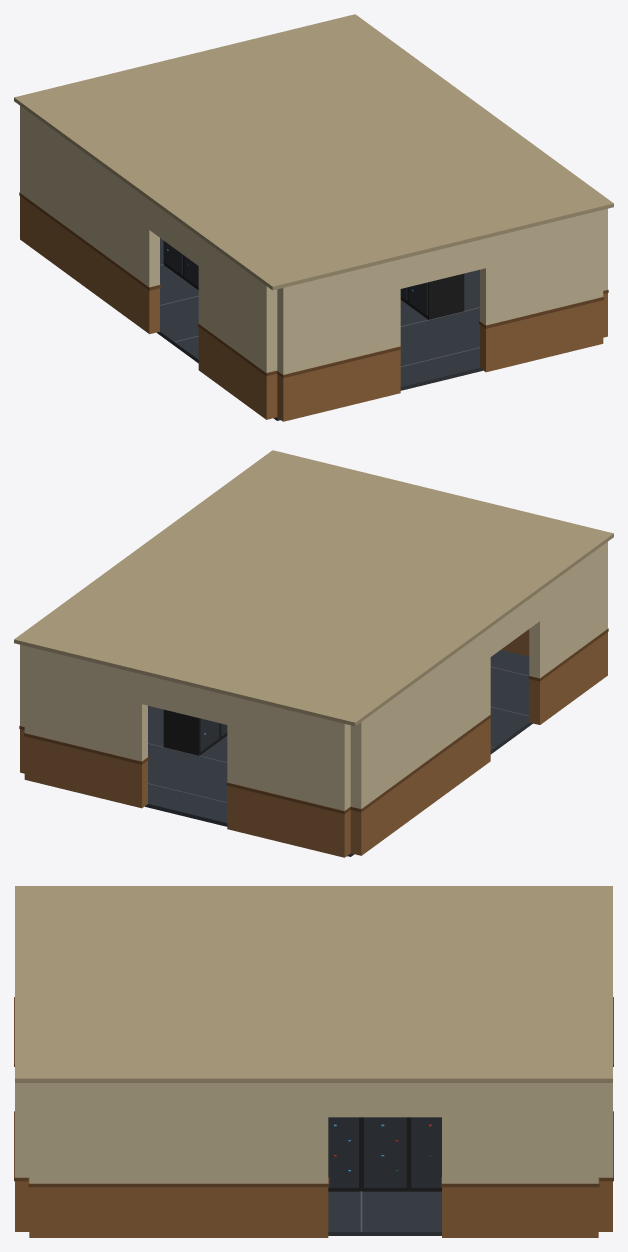
Rendered from room_robotics_server_room.glb.
3 views of the same model, one above another, from view 1: azimuth 30°, elevation 25°; view 2: azimuth 150°, elevation 25°; view 3: azimuth 270°, elevation 25° (orthographic). The views are drawn at different scales.
Parts seen in each view (by area): view 1: room_robotics_server_room; view 2: room_robotics_server_room; view 3: room_robotics_server_room.
Boxes of the visible parts, left/top/right/bottom form: room_robotics_server_room: left=14, top=14, right=613, bottom=421; room_robotics_server_room: left=14, top=450, right=613, bottom=857; room_robotics_server_room: left=14, top=886, right=613, bottom=1237.
Size of the model in its own units: 9.62 by 3.8 by 12.64.
Materials: 1 (1 with a texture image).
